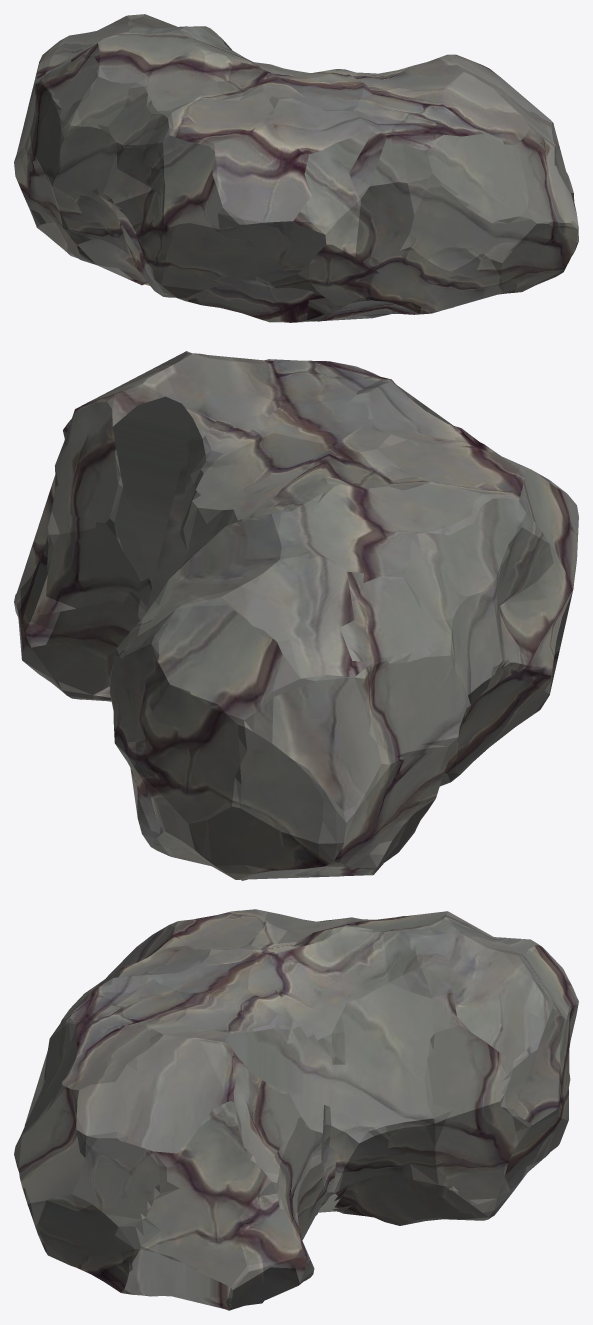
The model's file is stone_04.fbx.
3 renders of one model, top to bottom at view 1: azimuth 30°, elevation 25°; view 2: azimuth 150°, elevation 25°; view 3: azimuth 270°, elevation 25°, orthographic. The views are drawn at different scales.
Parts seen in each view (by area): view 1: rock04; view 2: rock04; view 3: rock04.
Boxes of the visible parts, left/top/right/bottom form: rock04: left=14, top=14, right=578, bottom=322; rock04: left=14, top=351, right=578, bottom=880; rock04: left=14, top=909, right=578, bottom=1310.
Size of the model in its own units: 8.6 by 9.39 by 5.04.
